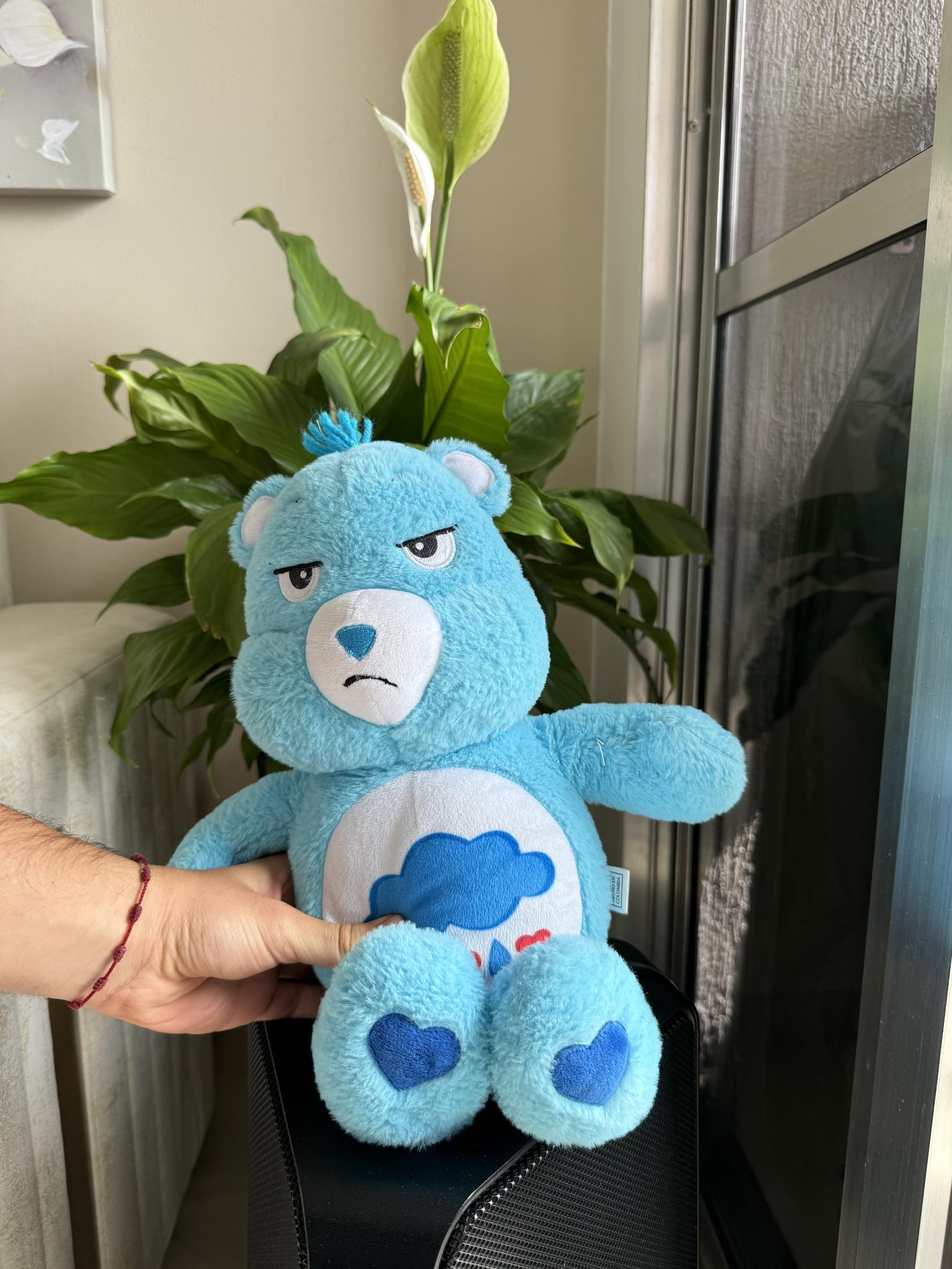peluche_Juan Jose: (216, 429, 753, 1155)
